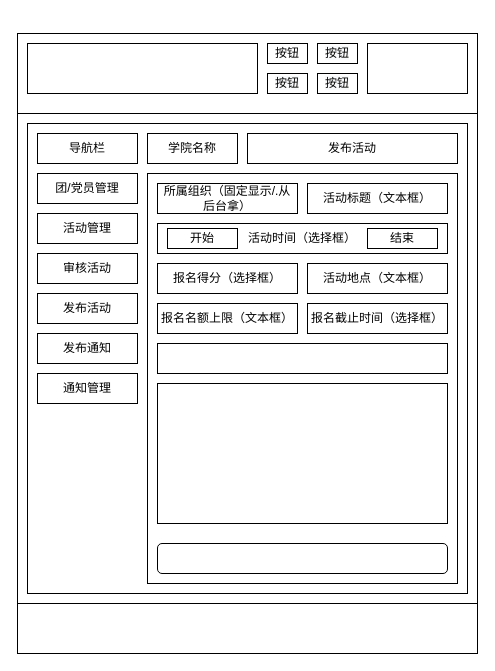
This 495x671 diagram has some shape labels left out. Here are the shapes that lost their labels. From the top down, the centre of each, then its label:
point (142, 68): 网站标题（文字+图片）
point (417, 68): 当前登录学生信息显示（跳转主页）
point (302, 358): 活动类型（学院团党活动；学院党员活动）
point (302, 453): 活动详细内容（文本框，富文本）
point (302, 558): 发布活动（直接发布，无需申请）
point (247, 628): 底部导航栏&联系发邮件
